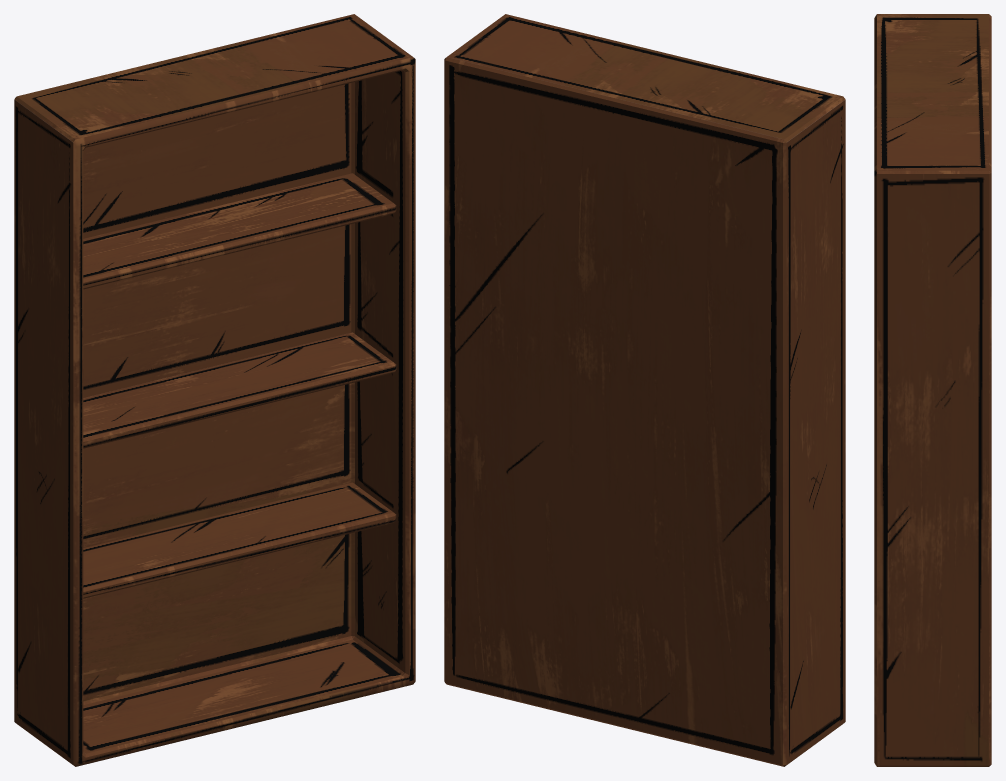
The model's file is Shelf_D.glb.
The picture shows the model from 3 angles, left to right: view 1: azimuth 30°, elevation 25°; view 2: azimuth 150°, elevation 25°; view 3: azimuth 270°, elevation 25°; orthographic projection. The views are drawn at different scales.
Parts seen in each view (by area): view 1: Shelf D; view 2: Shelf D; view 3: Shelf D.
Part boxes in pixels (x1,y1,x2,y2): Shelf D: [14, 14, 415, 766]; Shelf D: [444, 14, 845, 766]; Shelf D: [874, 14, 991, 766].
Bounding box in the file's own units: 6.14 × 10.76 × 1.91.
Materials: 1 (1 with a texture image).
